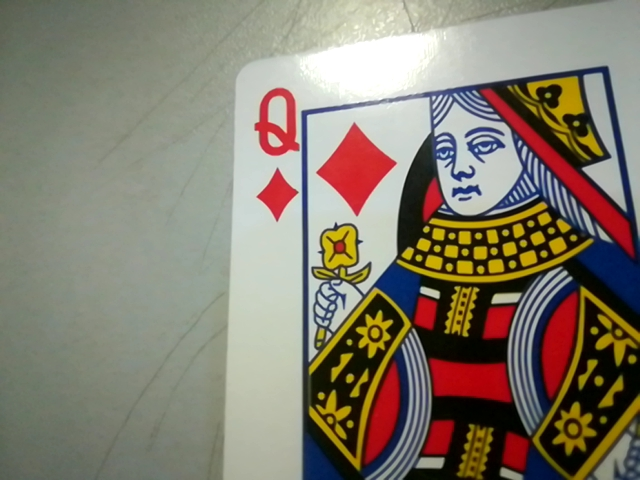fk q: (243, 84, 305, 219)
